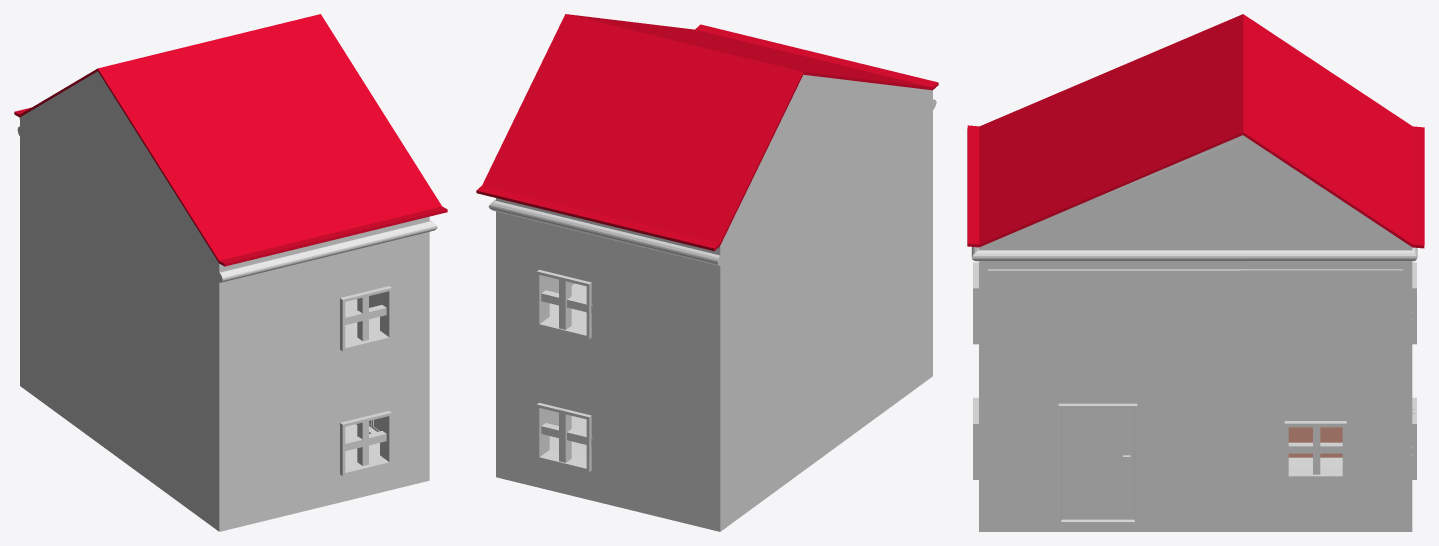
File: Dollhouse with numbers.fbx
3 views of the same model, side by side, from view 1: azimuth 30°, elevation 25°; view 2: azimuth 150°, elevation 25°; view 3: azimuth 270°, elevation 25° (orthographic). The views are drawn at different scales.
Visible parts, largest first — view 1: Dollhouse; view 2: Dollhouse; view 3: Dollhouse, bigDoor, smallDoor, HiddenDoor.
Part boxes in pixels (<box>): Dollhouse: <box>14,14,447,531</box>; Dollhouse: <box>476,14,938,531</box>; Dollhouse: <box>967,14,1424,531</box>; bigDoor: <box>988,269,1240,525</box>; smallDoor: <box>1241,269,1403,524</box>; HiddenDoor: <box>987,138,1242,244</box>.
Size of the model in its own units: 237 by 383 by 387.
